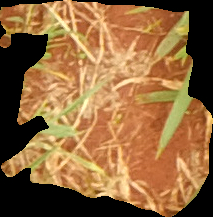soil: (1, 2, 211, 215)
